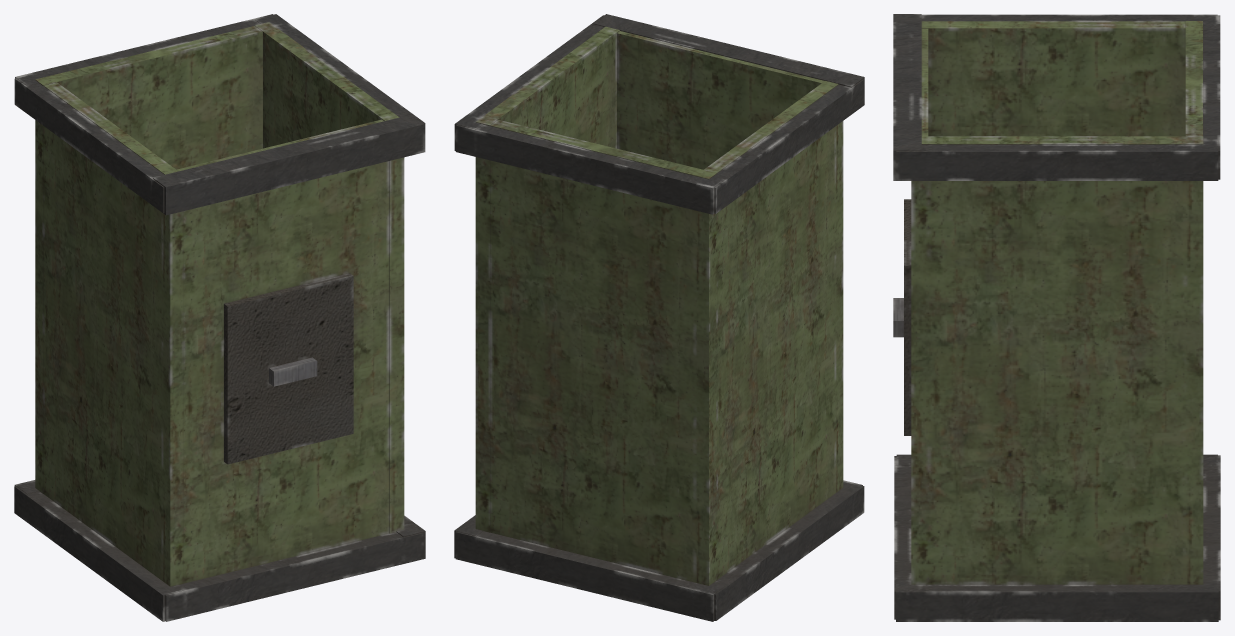
Rendered from feItemChute_HD.fbx.
3 renders of one model, left to right at view 1: azimuth 30°, elevation 25°; view 2: azimuth 150°, elevation 25°; view 3: azimuth 270°, elevation 25°, orthographic. The views are drawn at different scales.
Parts seen in each view (by area): view 1: feItemChute_Base; view 2: feItemChute_Base; view 3: feItemChute_Base.
Boxes of the visible parts, <box> form: feItemChute_Base: <box>14,14,425,621</box>; feItemChute_Base: <box>454,14,864,621</box>; feItemChute_Base: <box>893,14,1220,621</box>.
Size of the model in its own units: 0.6324 by 1 by 0.6336.
1 material, 1 textured.
